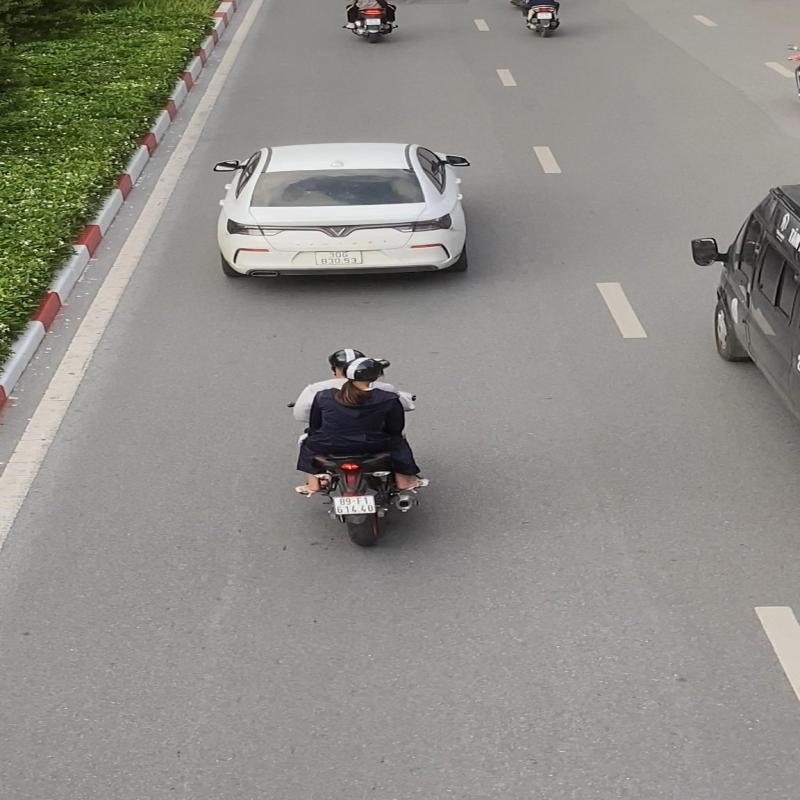helmet: (342, 356, 390, 382), (326, 349, 366, 370)
licenseplate: (330, 493, 378, 516)
motorcyclist: (283, 345, 439, 549)
